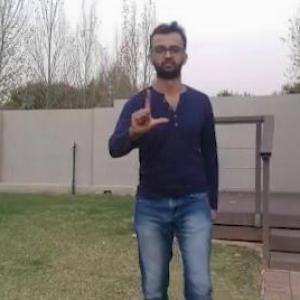land_hand: (125, 85, 169, 139)
